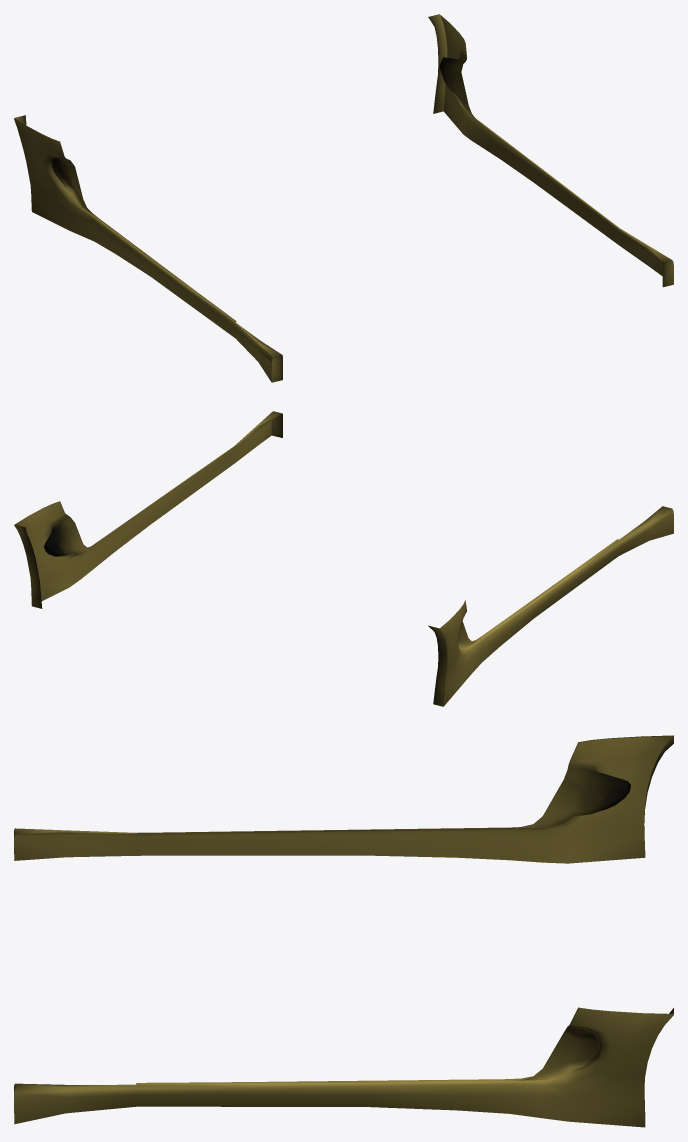
Rendered from Supra_SideSkirt_04_Duco.fbx.
3 views of the same model, one above another, from view 1: azimuth 30°, elevation 25°; view 2: azimuth 150°, elevation 25°; view 3: azimuth 270°, elevation 25° (orthographic). The views are drawn at different scales.
Visible parts, largest first — view 1: Supra_SideSkirt_04_Duco; view 2: Supra_SideSkirt_04_Duco; view 3: Supra_SideSkirt_04_Duco.
Part boxes in pixels (x1=…): Supra_SideSkirt_04_Duco: x1=14, y1=14, x2=673, y2=382; Supra_SideSkirt_04_Duco: x1=14, y1=411, x2=673, y2=706; Supra_SideSkirt_04_Duco: x1=14, y1=735, x2=673, y2=1127.
Size of the model in its own units: 187 by 36.78 by 187.
